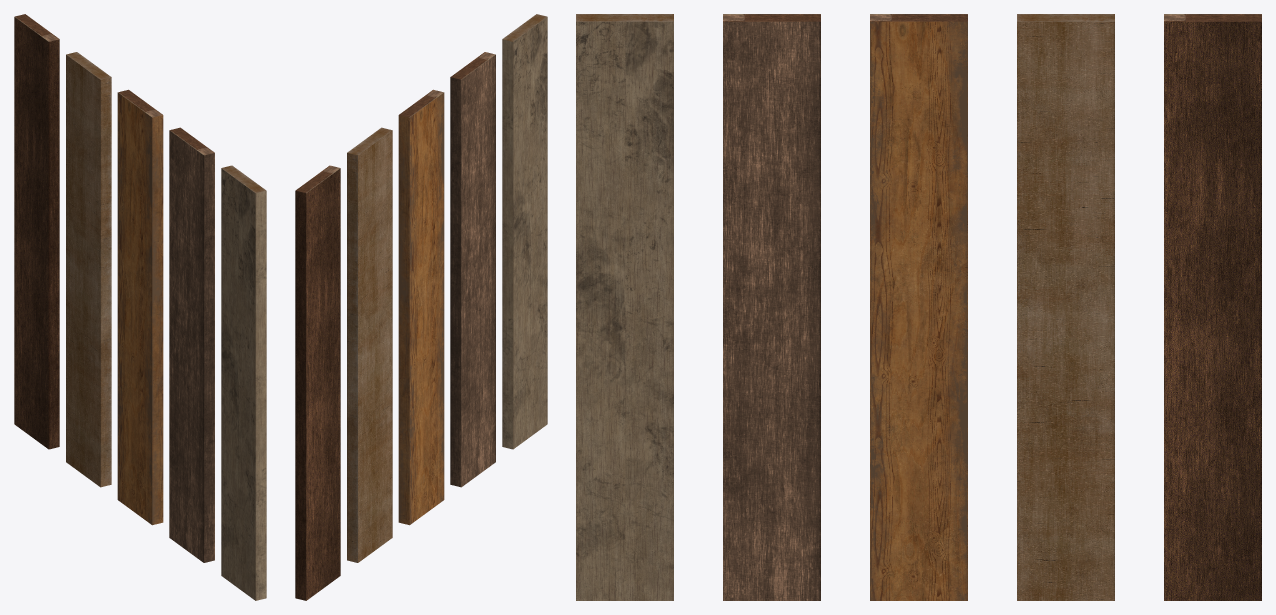
File: Tabla de madera.fbx
3 views of the same model, side by side, from view 1: azimuth 30°, elevation 25°; view 2: azimuth 150°, elevation 25°; view 3: azimuth 270°, elevation 25° (orthographic). The views are drawn at different scales.
Visible parts, largest first — view 1: Куб.002, Куб, Куб.004, Куб.001, Куб.003; view 2: Куб.002, Куб, Куб.004, Куб.001, Куб.003; view 3: Куб, Куб.001, Куб.002, Куб.003, Куб.004.
Boxes of the visible parts, box(x1,y1,x2,y2) form: Куб.002: box(117, 89, 163, 525); Куб: box(221, 165, 266, 600); Куб.004: box(14, 14, 59, 449); Куб.001: box(169, 127, 214, 562); Куб.003: box(66, 52, 111, 487); Куб.002: box(398, 89, 444, 525); Куб: box(502, 14, 547, 449); Куб.004: box(295, 165, 340, 600); Куб.001: box(450, 52, 495, 487); Куб.003: box(347, 127, 392, 562); Куб: box(576, 14, 673, 600); Куб.001: box(723, 14, 820, 600); Куб.002: box(870, 14, 967, 600); Куб.003: box(1017, 14, 1114, 600); Куб.004: box(1164, 14, 1261, 600).
Size of the model in its own units: 36.84 by 1305 by 1400.
